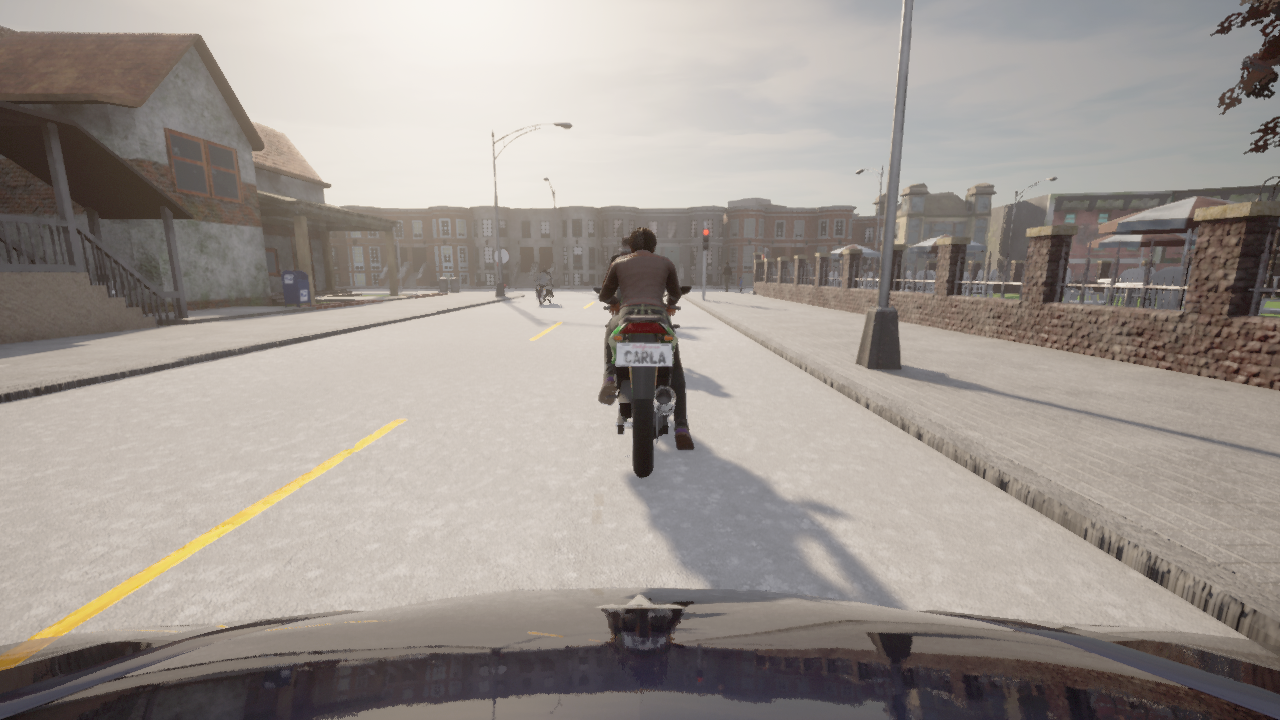cyclist: (0, 588, 1279, 719), (594, 286, 690, 477), (530, 273, 555, 305)
pedestrian: (722, 261, 732, 291), (738, 272, 744, 292)
